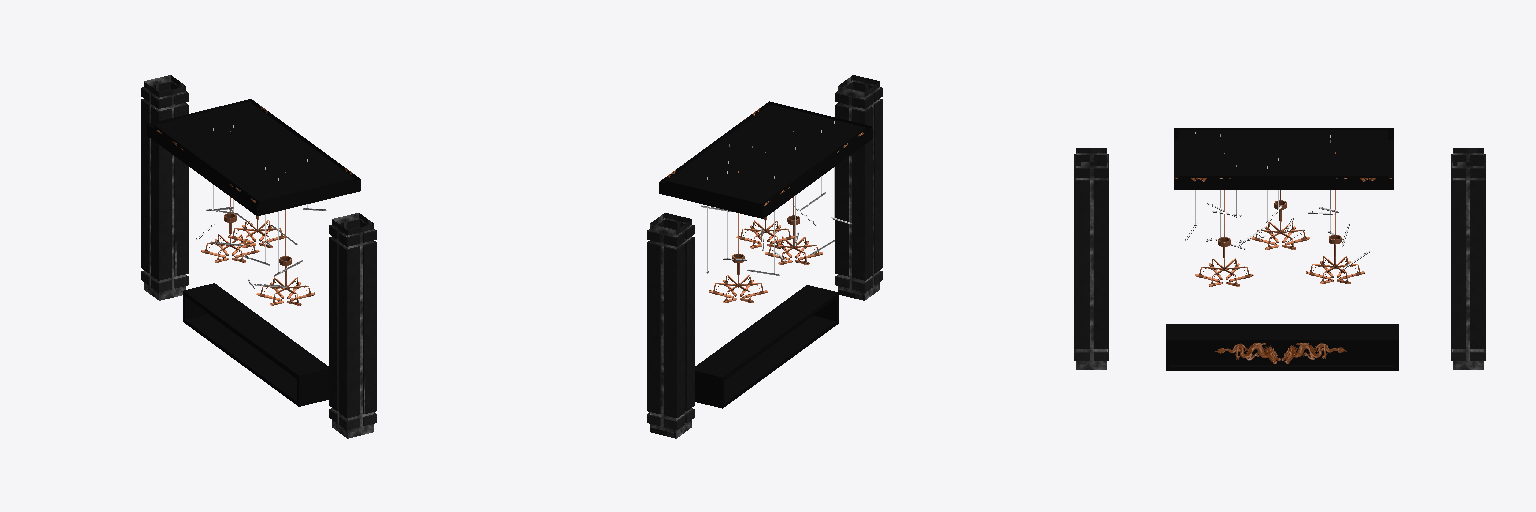
The picture shows the model from 3 angles: view 1: azimuth 30°, elevation 25°; view 2: azimuth 150°, elevation 25°; view 3: azimuth 270°, elevation 25°; orthographic projection.
Parts seen in each view (by area): view 1: bakeREc_bakeREc_low, pCube157, pCube156, bakeREc_bakeREc_low2, Lighter1, bakeREc_bakeREc_HighPoly_HighPoly_Lamp4, Lighter4; view 2: bakeREc_bakeREc_low, pCube156, pCube157, bakeREc_bakeREc_low2, bakeREc_bakeREc_HighPoly_HighPoly_Lamp4, Lighter4, Lighter1; view 3: bakeREc_bakeREc_low, bakeREc_bakeREc_low2, pCube156, pCube157, bakeREc_bakeREc_HighPoly_HighPoly_Lamp4, Lighter4, Lighter1, Lighter3.
Part boxes in pixels (x1,y1,x2,y2): bakeREc_bakeREc_low: (147, 99, 360, 215); pCube157: (329, 213, 376, 438); pCube156: (141, 75, 188, 300); bakeREc_bakeREc_low2: (183, 283, 328, 406); Lighter1: (256, 172, 314, 305); bakeREc_bakeREc_HighPoly_HighPoly_Lamp4: (196, 125, 326, 288); Lighter4: (201, 131, 259, 262); bakeREc_bakeREc_low: (659, 101, 872, 218); pCube156: (647, 213, 694, 438); pCube157: (835, 75, 882, 300); bakeREc_bakeREc_low2: (695, 285, 838, 408); bakeREc_bakeREc_HighPoly_HighPoly_Lamp4: (701, 121, 851, 275); Lighter4: (709, 171, 767, 302); Lighter1: (765, 131, 822, 264); bakeREc_bakeREc_low: (1174, 128, 1393, 189); bakeREc_bakeREc_low2: (1166, 324, 1398, 370); pCube156: (1451, 148, 1485, 369); pCube157: (1074, 148, 1108, 369); bakeREc_bakeREc_HighPoly_HighPoly_Lamp4: (1185, 132, 1369, 269); Lighter4: (1306, 152, 1364, 283); Lighter1: (1195, 153, 1253, 286); Lighter3: (1251, 190, 1309, 249).
Bounding box in the file's own units: 11.43 × 22.24 × 39.18.
Materials: 5 (4 with a texture image).